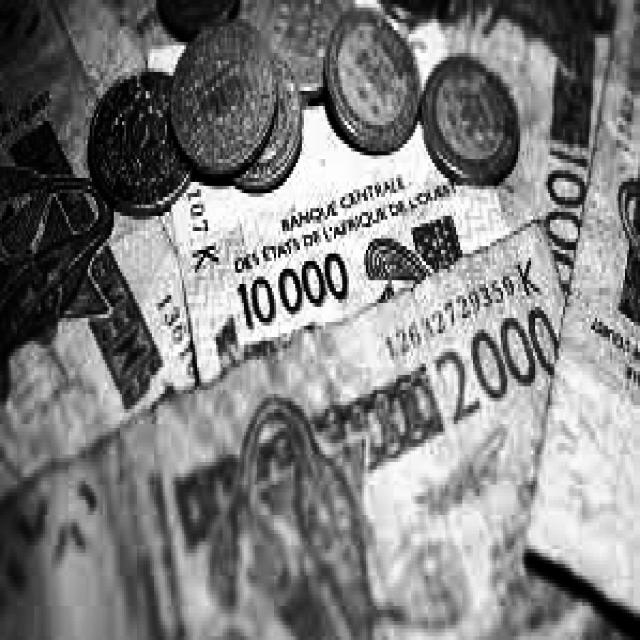fukk: (171, 22, 276, 179), (89, 71, 191, 215), (233, 60, 301, 192)
niaar junni: (173, 104, 506, 383)
nient fukk: (325, 13, 420, 153), (421, 58, 519, 184)
nient teemeer: (1, 223, 627, 637)
teemeer: (529, 0, 640, 620), (237, 0, 353, 97)
